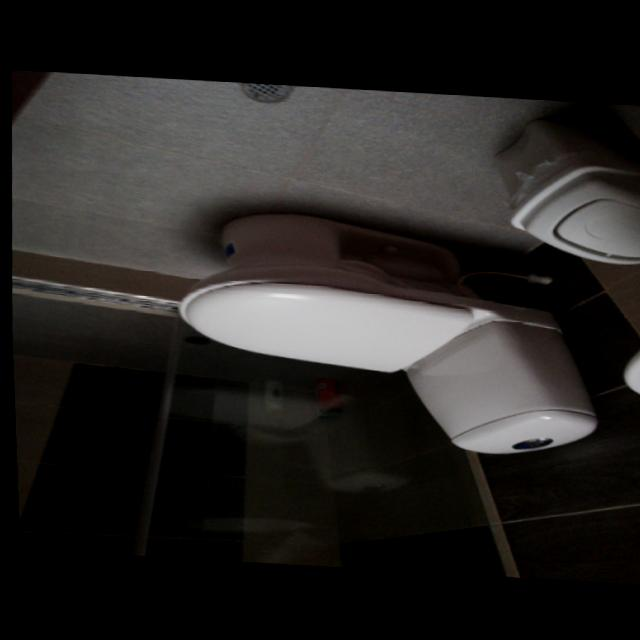toilet: (168, 205, 604, 458)
